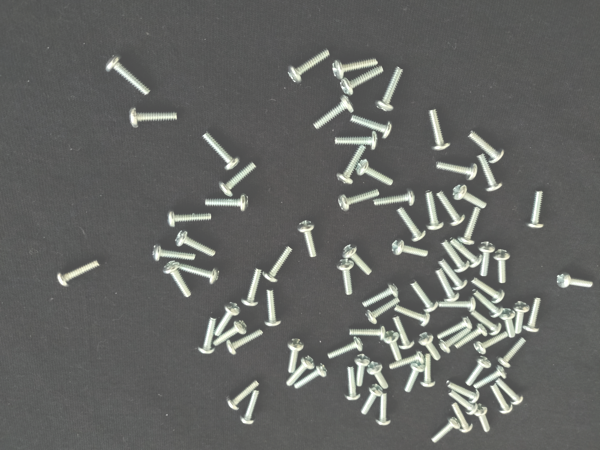shortscrew: (104, 54, 151, 96), (313, 92, 354, 130), (288, 48, 331, 84), (202, 131, 240, 171), (340, 64, 385, 95), (218, 162, 257, 197), (375, 66, 404, 112), (337, 144, 368, 185), (263, 244, 294, 284), (56, 261, 100, 288), (469, 131, 504, 164), (175, 229, 216, 257), (128, 106, 177, 129), (396, 206, 427, 242), (436, 190, 466, 227), (163, 260, 191, 298), (356, 159, 394, 187), (362, 281, 400, 309), (226, 380, 260, 411), (351, 114, 393, 139), (333, 57, 378, 80), (177, 262, 220, 286), (226, 329, 265, 355), (212, 320, 248, 348), (342, 243, 372, 276), (286, 353, 316, 386), (409, 280, 439, 313), (450, 238, 483, 268), (471, 277, 506, 305), (478, 153, 503, 192), (214, 301, 241, 337), (365, 298, 401, 325), (339, 187, 379, 211), (498, 336, 526, 369), (295, 362, 329, 389), (443, 240, 470, 274), (430, 109, 451, 152), (167, 208, 212, 228), (473, 289, 503, 319), (458, 208, 482, 245), (205, 193, 249, 213), (242, 266, 264, 306), (452, 184, 487, 209), (437, 315, 472, 340), (440, 260, 469, 290), (455, 323, 488, 349), (328, 335, 363, 359), (473, 365, 508, 389), (470, 310, 502, 336), (153, 243, 196, 262), (335, 132, 378, 151), (446, 380, 480, 404), (394, 305, 431, 327), (439, 327, 469, 354), (467, 355, 492, 387), (425, 190, 445, 230), (240, 387, 261, 425), (437, 267, 459, 303), (432, 417, 461, 444), (475, 332, 509, 355), (526, 189, 546, 228), (448, 390, 479, 415), (393, 315, 415, 350), (438, 162, 478, 181), (374, 188, 415, 206), (298, 220, 317, 258), (264, 289, 283, 327), (198, 317, 217, 355), (496, 380, 523, 406), (392, 239, 428, 258), (523, 297, 542, 333), (367, 359, 389, 390), (362, 384, 384, 415), (337, 258, 355, 295), (453, 403, 474, 434), (492, 384, 513, 415), (287, 338, 305, 374), (439, 296, 477, 313), (418, 333, 441, 361), (494, 249, 512, 284), (344, 365, 361, 401), (349, 325, 387, 341), (405, 362, 424, 393), (479, 242, 496, 276), (558, 272, 593, 288), (376, 391, 391, 427), (385, 331, 402, 362), (500, 308, 517, 339), (421, 353, 436, 388), (356, 354, 371, 387), (515, 301, 530, 334), (474, 406, 491, 433)
